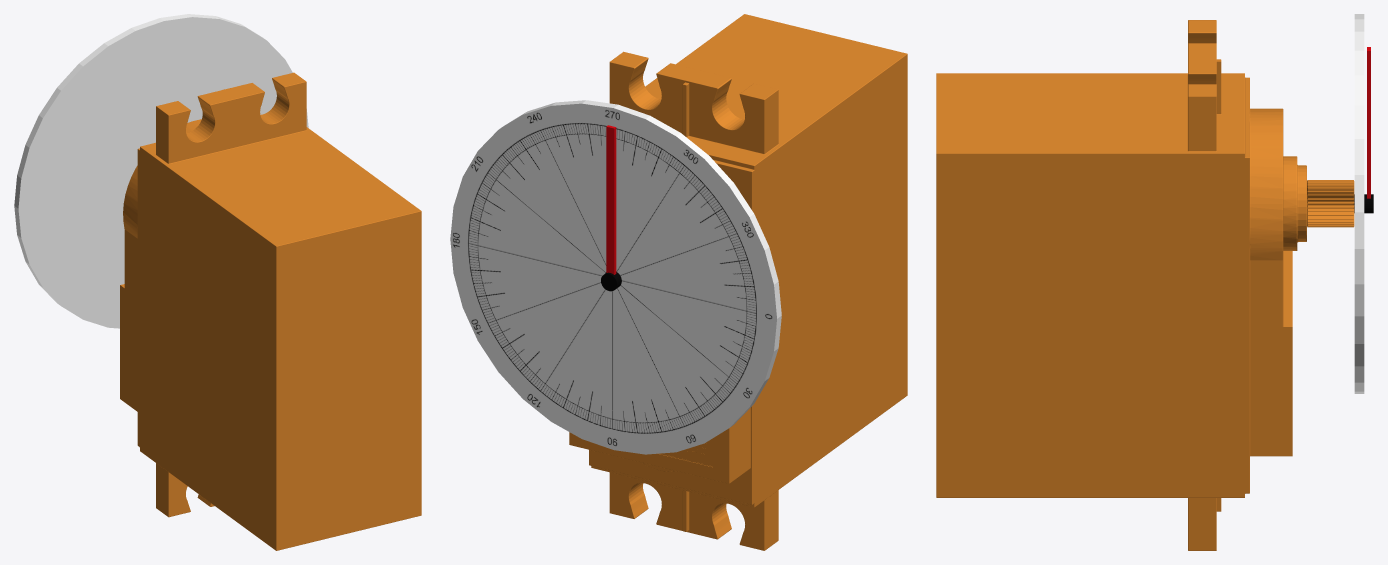
File: ServoReloj2.glb
The picture shows the model from 3 angles, left to right: view 1: azimuth 30°, elevation 25°; view 2: azimuth 150°, elevation 25°; view 3: azimuth 270°, elevation 25°; orthographic projection. The views are drawn at different scales.
Parts seen in each view (by area): view 1: MG-996R, Cylinder.Center; view 2: Cylinder.Center, MG-996R, Manecilla; view 3: MG-996R, Cylinder.Center, Manecilla.
Part boxes in pixels (bbox=[...]): MG-996R: bbox=[120, 72, 421, 550]; Cylinder.Center: bbox=[14, 14, 308, 328]; Cylinder.Center: bbox=[450, 100, 781, 454]; MG-996R: bbox=[569, 14, 907, 550]; Manecilla: bbox=[606, 125, 616, 274]; MG-996R: bbox=[936, 20, 1354, 550]; Cylinder.Center: bbox=[1354, 14, 1364, 393]; Manecilla: bbox=[1367, 47, 1370, 198].
Bounding box in the file's own units: 40 × 55.88 × 46.03.
4 materials, 1 textured.
